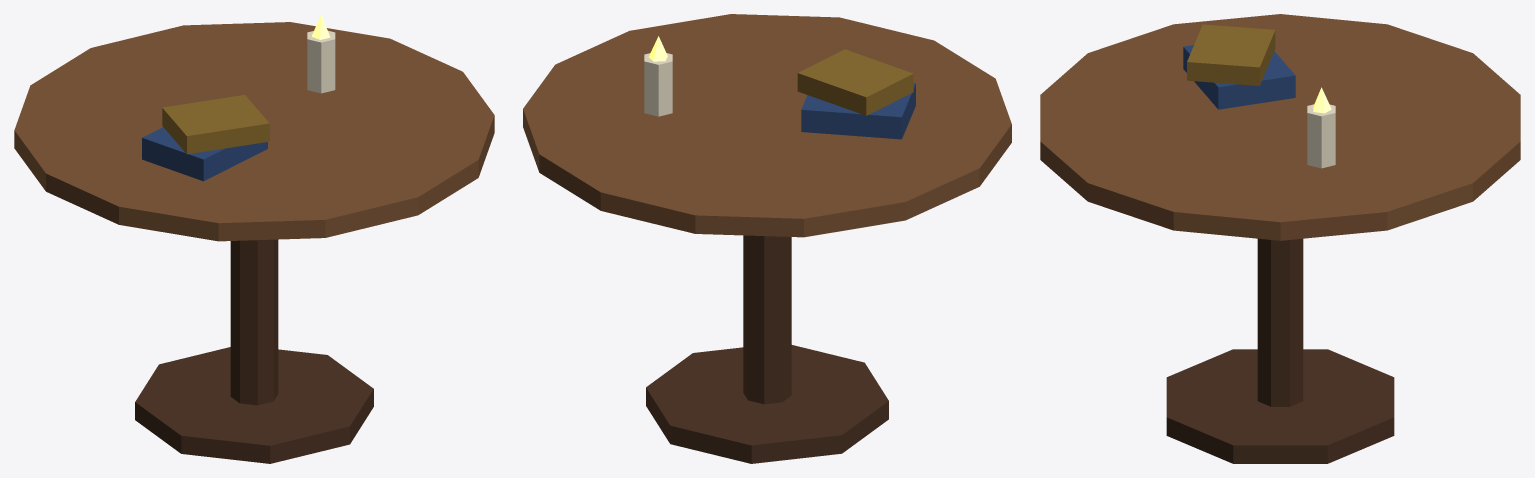
The model's file is round_table.glb.
3 renders of one model, left to right at view 1: azimuth 30°, elevation 25°; view 2: azimuth 150°, elevation 25°; view 3: azimuth 270°, elevation 25°, orthographic. The views are drawn at different scales.
Visible parts, largest first — view 1: round_table; view 2: round_table; view 3: round_table.
Boxes of the visible parts, bbox=[...] form: round_table: bbox=[14, 14, 494, 463]; round_table: bbox=[523, 14, 1011, 463]; round_table: bbox=[1040, 14, 1520, 463].
Bounding box in the file's own units: 1.2 × 1 × 1.17.
